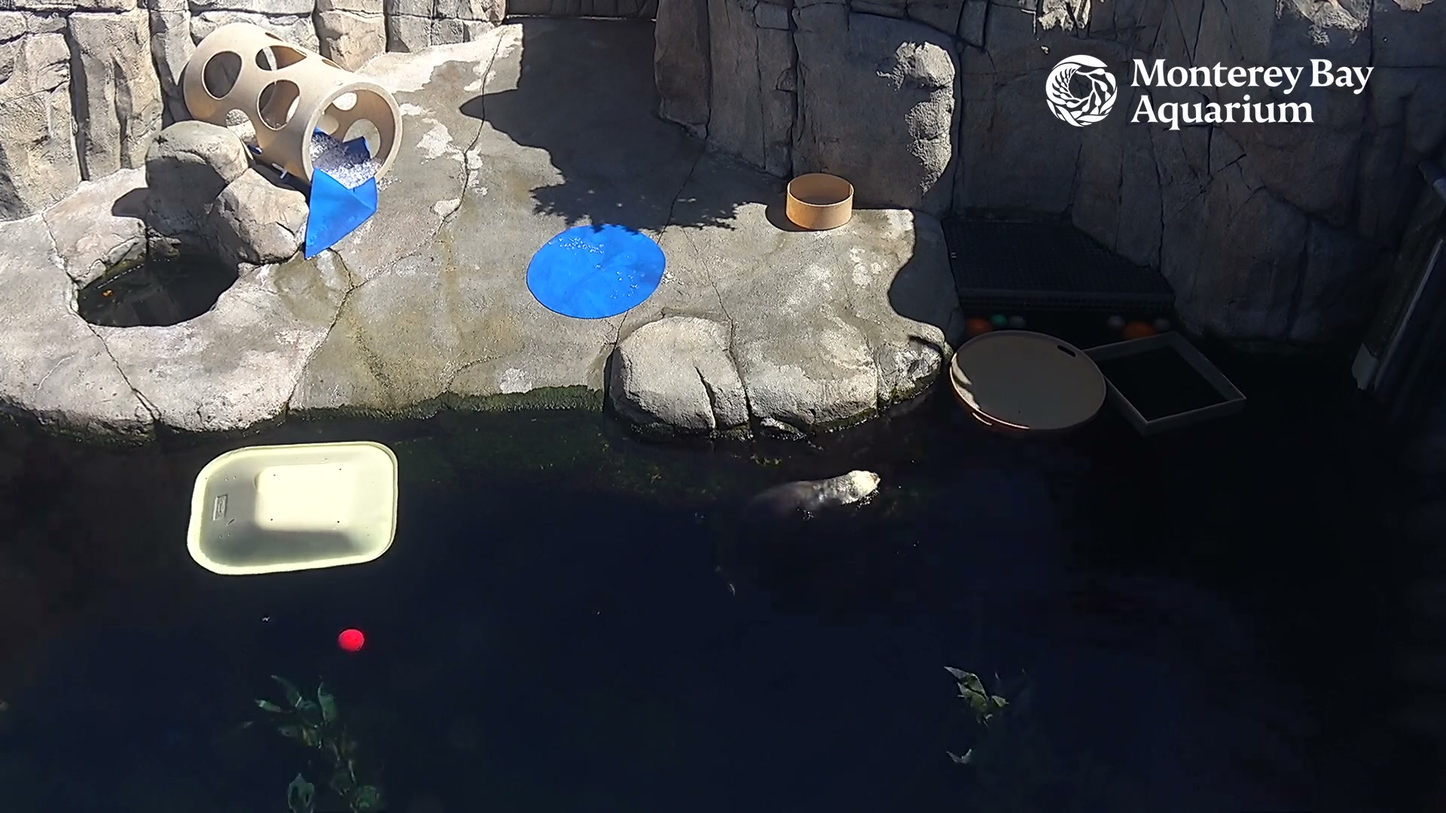Southern Sea Otter: (705, 454, 934, 558)
